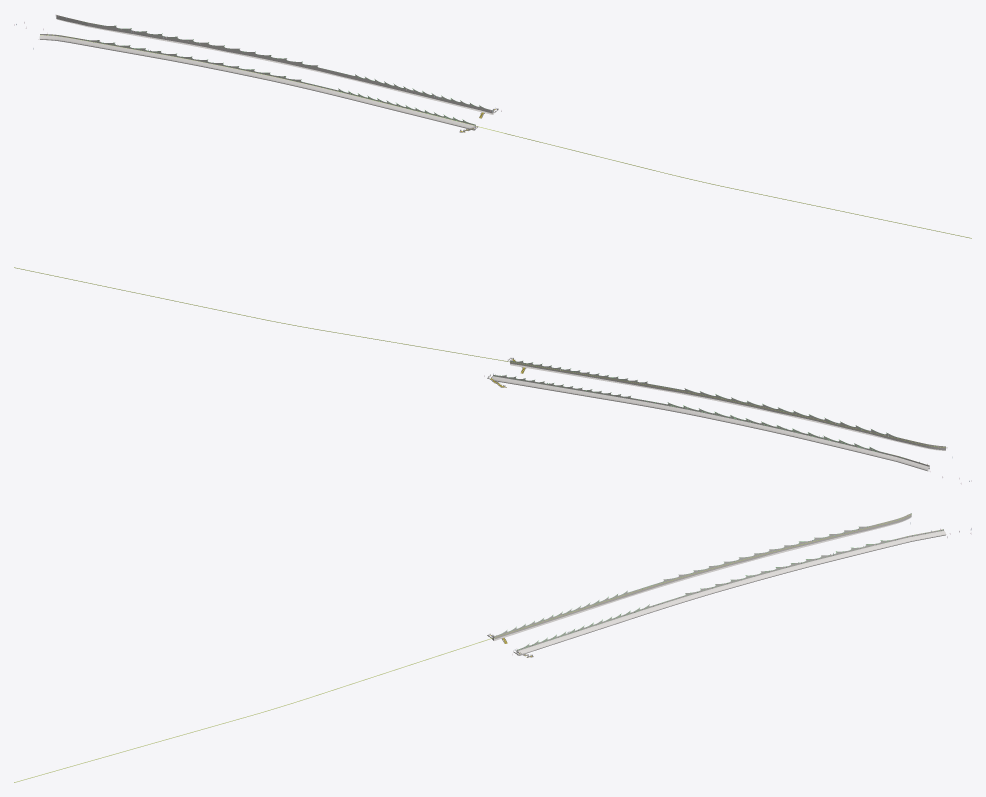
Rendered from sala-part-04.glb.
The picture shows the model from 3 angles, top to bottom: view 1: azimuth 30°, elevation 25°; view 2: azimuth 210°, elevation 25°; view 3: azimuth 270°, elevation 25°; orthographic projection. The views are drawn at different scales.
Visible parts, largest first — view 1: Group#33 (×2); view 2: Group#33 (×2); view 3: Group#33 (×2).
Boxes of the visible parts, x1,y1,x2,y2 form: Group#33 (×2): (39, 15, 971, 238); Group#33 (×2): (14, 267, 946, 471); Group#33 (×2): (14, 513, 946, 782).
Size of the model in its own units: 429 by 17 by 668.
